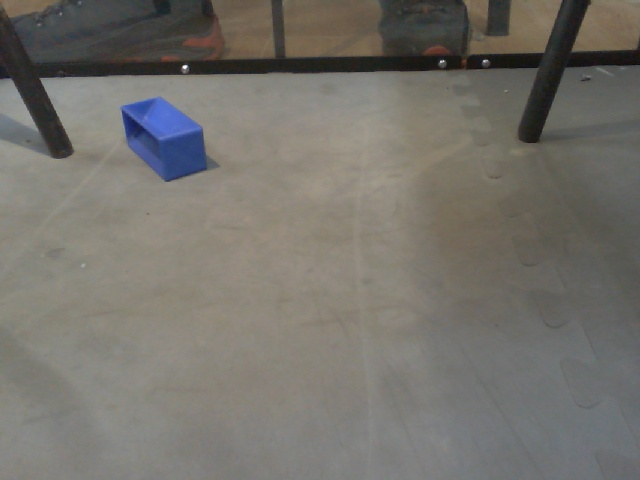BlueSample: (120, 95, 213, 185)
